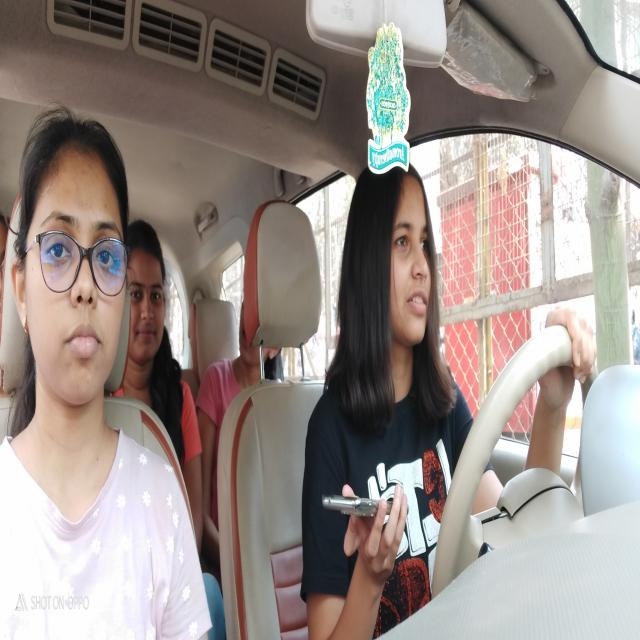mobile: (319, 484, 401, 522)
person: (18, 109, 128, 413), (347, 162, 444, 364), (124, 227, 169, 375), (238, 297, 281, 369), (0, 210, 9, 317)
